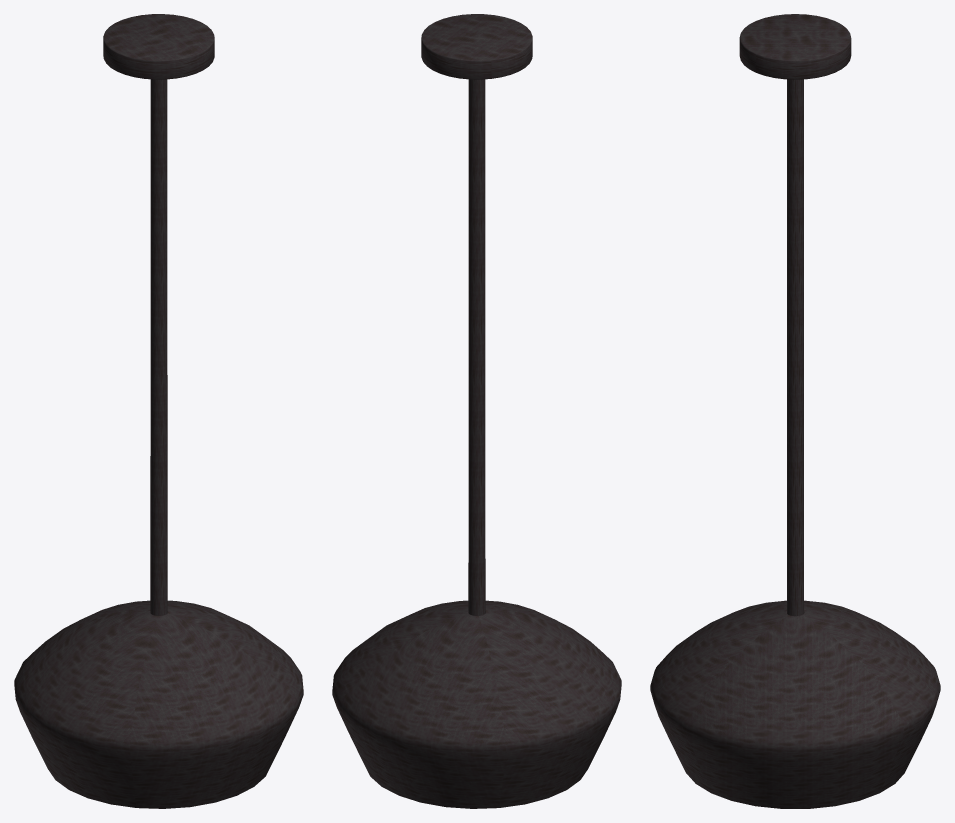
File: Light.glb
3 views of the same model, side by side, from view 1: azimuth 30°, elevation 25°; view 2: azimuth 150°, elevation 25°; view 3: azimuth 270°, elevation 25° (orthographic).
Parts seen in each view (by area): view 1: Light_instance.001; view 2: Light_instance.001; view 3: Light_instance.001.
Part boxes in pixels (left/top/right/bottom): Light_instance.001: left=14, top=14, right=303, bottom=808; Light_instance.001: left=332, top=14, right=621, bottom=808; Light_instance.001: left=650, top=14, right=940, bottom=808.
Bounding box in the file's own units: 0.3255 × 0.9025 × 0.3278.
3 materials, 1 textured.
